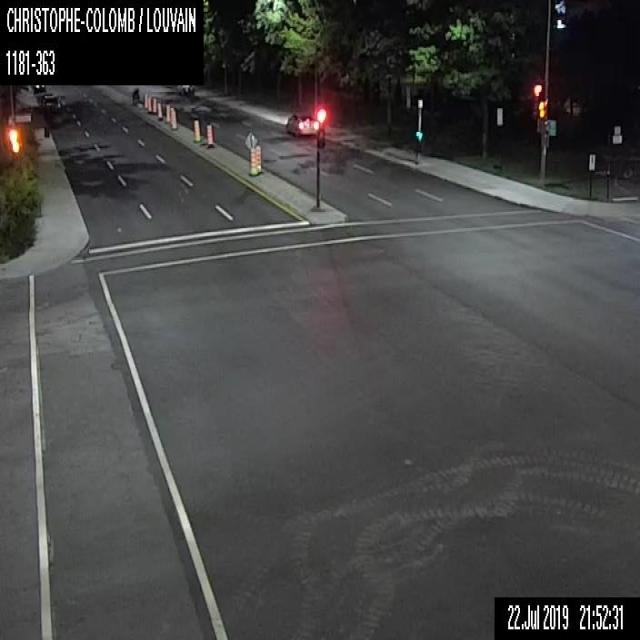construction: (248, 147, 258, 175), (192, 118, 201, 142), (255, 143, 262, 173), (206, 123, 214, 147), (170, 110, 178, 129), (156, 101, 162, 120), (164, 104, 170, 122), (169, 106, 174, 125), (147, 96, 152, 113), (152, 97, 156, 113), (144, 93, 147, 108)
vehicle: (286, 112, 315, 137), (42, 94, 61, 115), (177, 84, 194, 95), (33, 84, 45, 92)
